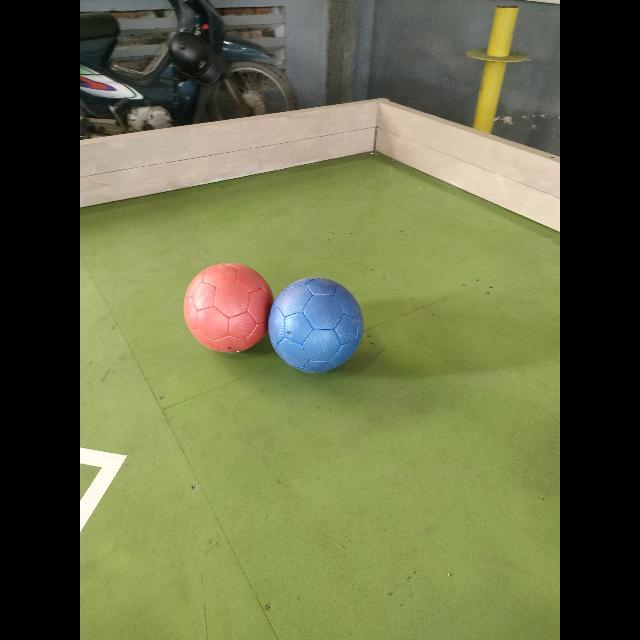R: (184, 262, 272, 354), (334, 285, 361, 318)
